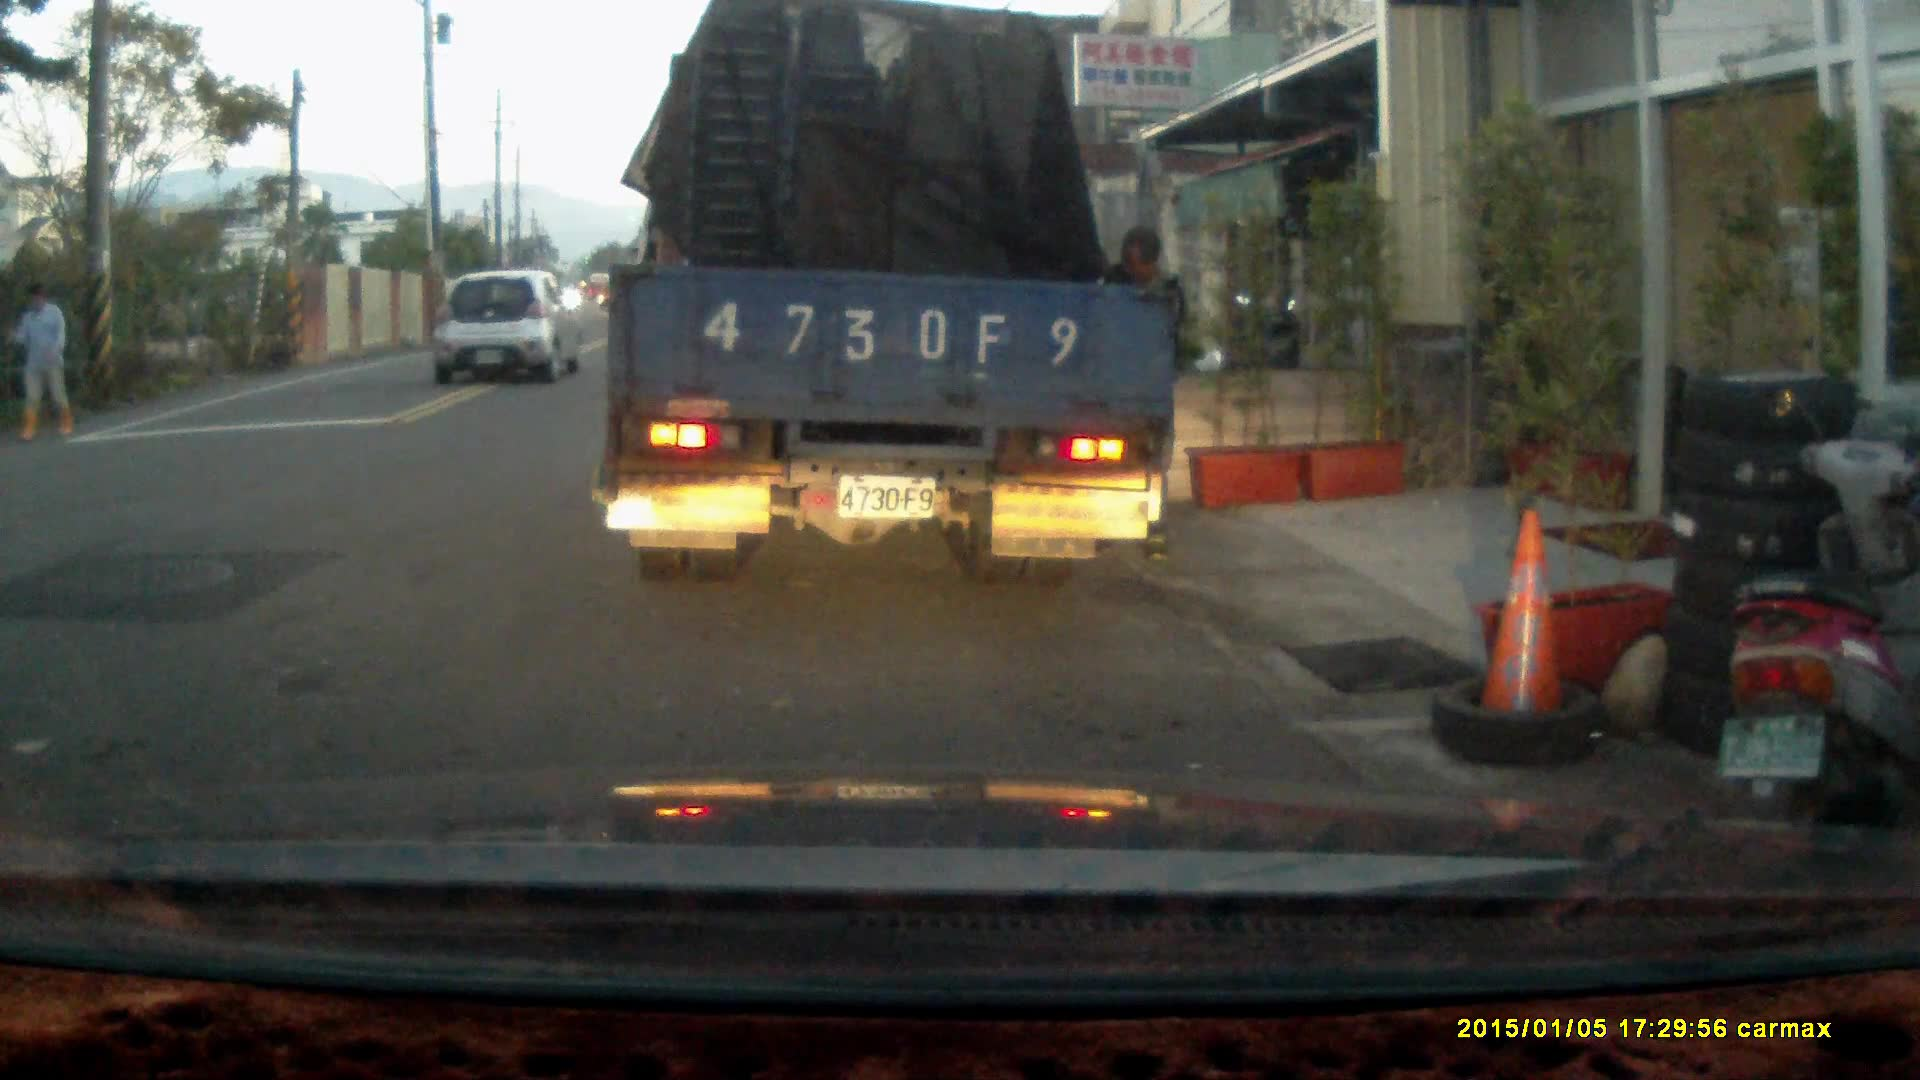pedestrian: (1085, 217, 1188, 566), (7, 281, 75, 442)
vehicle: (603, 23, 1187, 572), (427, 264, 589, 381)
